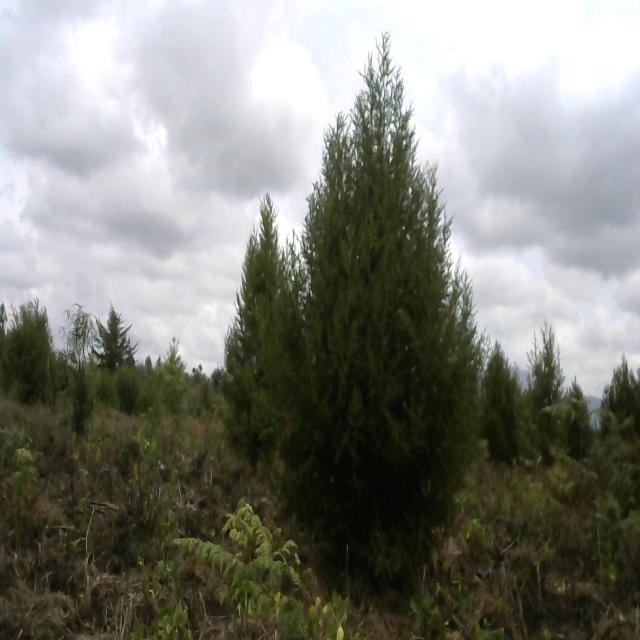Juniperus procesera: (286, 37, 485, 594), (226, 176, 297, 480), (481, 330, 530, 492), (5, 302, 54, 398), (532, 318, 568, 423), (92, 295, 132, 372)
